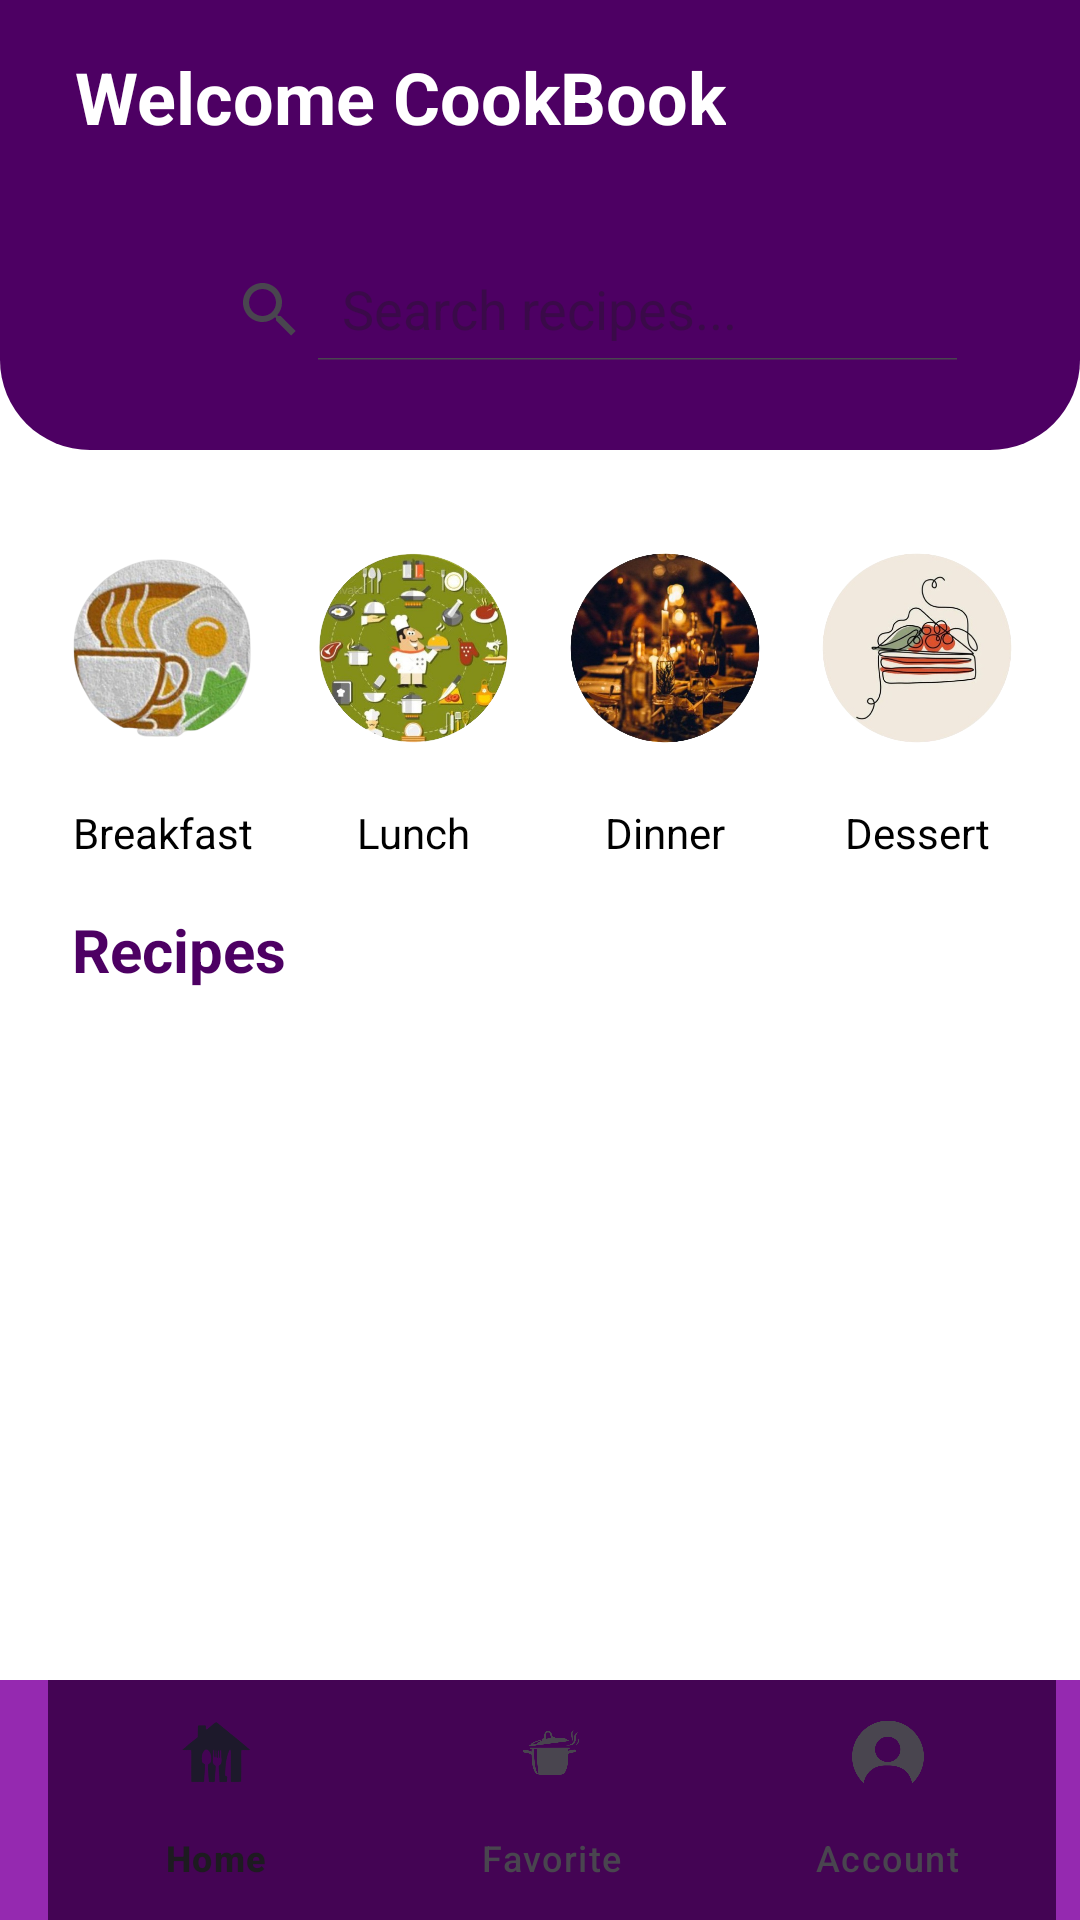

Icon click points for this 1080 x 1920 phone screenshot, format (x,y):
supper: (665,648)
